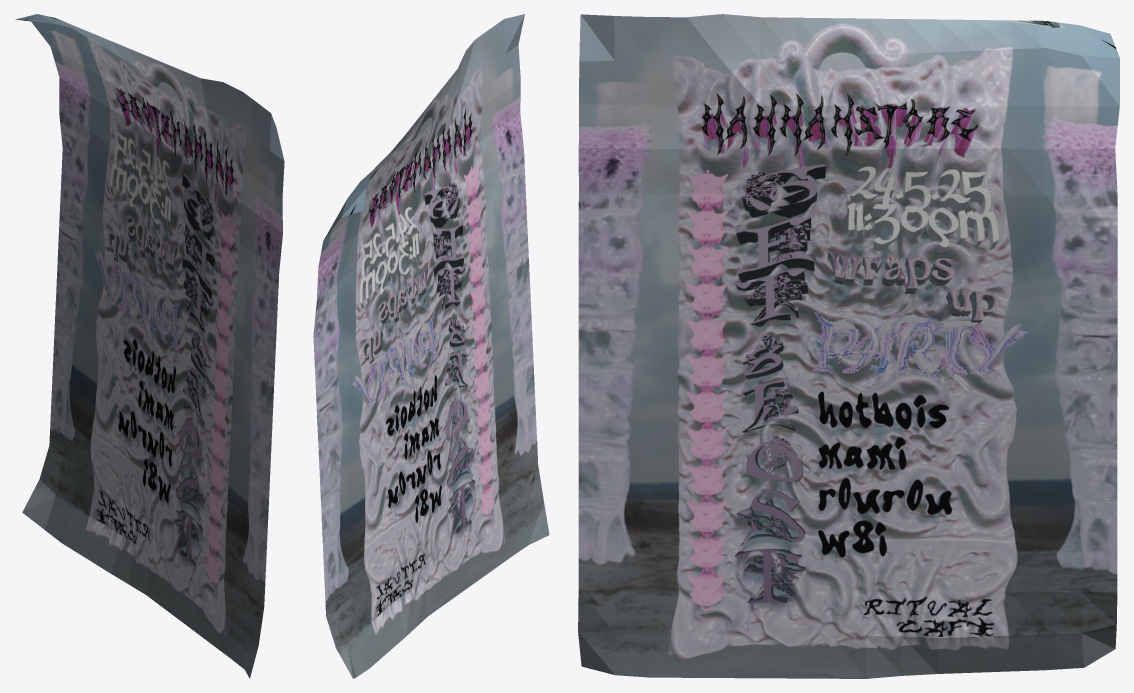
File: get lost.glb
The picture shows the model from 3 angles, left to right: view 1: azimuth 30°, elevation 25°; view 2: azimuth 150°, elevation 25°; view 3: azimuth 270°, elevation 25°; orthographic projection. The views are drawn at different scales.
Visible parts, largest first — view 1: pPlane1_Poster_01_Mat 9; view 2: pPlane1_Poster_01_Mat 9; view 3: pPlane1_Poster_01_Mat 9.
Part boxes in pixels (x1,y1,x2,y2): pPlane1_Poster_01_Mat 9: [15, 14, 284, 678]; pPlane1_Poster_01_Mat 9: [313, 14, 549, 678]; pPlane1_Poster_01_Mat 9: [578, 14, 1119, 678].
Bounding box in the file's own units: 6.39 × 60.59 × 43.99.
1 material, 1 textured.
